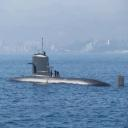submarine: (9, 37, 126, 86)
